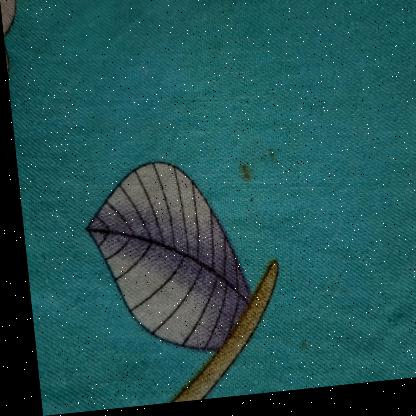spot: (233, 159, 259, 209), (259, 142, 282, 180), (288, 337, 306, 364)
